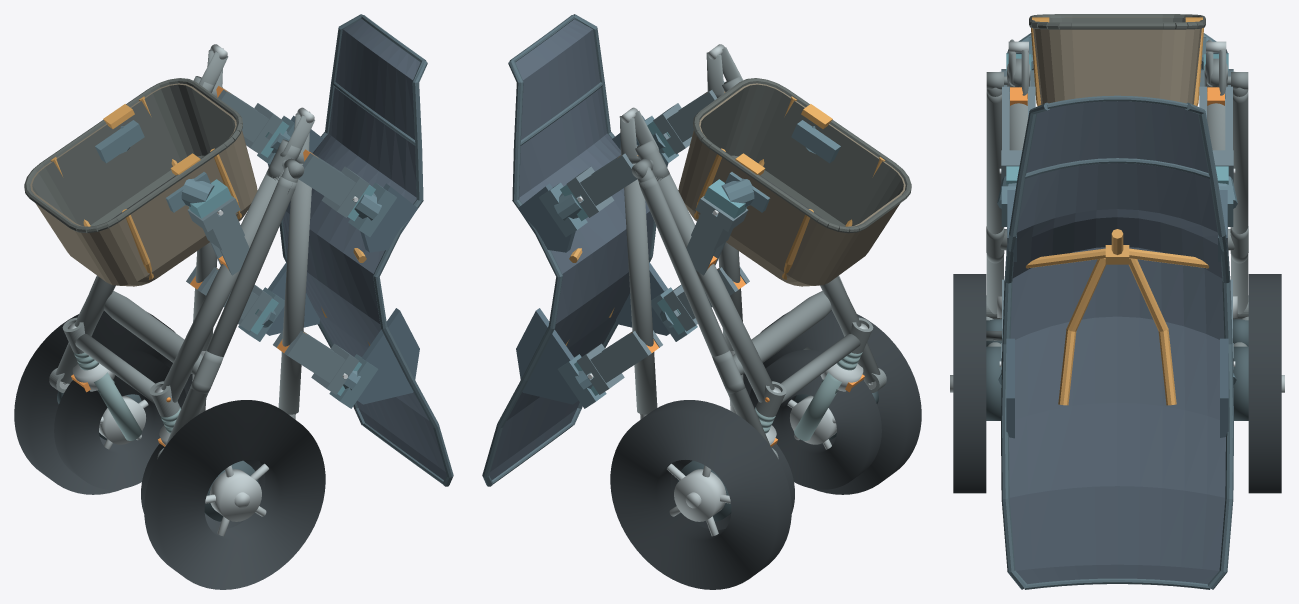
File: D34_w380_state3_wheel_M.glb
3 renders of one model, left to right at view 1: azimuth 30°, elevation 25°; view 2: azimuth 150°, elevation 25°; view 3: azimuth 270°, elevation 25°, orthographic. The views are drawn at different scales.
Visible parts, largest first — view 1: D34_Upper, D34_Lower, RL_tire.013, FR_tire.013, RR_tire.013, main_upper_-1.001, V46_rear_leg_-1, main_lower_-1.001, D34_Lower_Mount_L, Universal_Cabin_Receiver_H_-1, V46_rearbar, Universal_Cabin_Receiver_M_-1 (+16 smaller); view 2: D34_Upper, D34_Lower, RR_tire.013, FL_tire.013, RL_tire.013, main_upper_1.001, V46_rear_leg_1, main_lower_1.001, D34_Lower_Mount_L, Universal_Cabin_Receiver_H_1, V46_rearbar, Universal_Cabin_Receiver_M_1 (+18 smaller); view 3: D34_Upper, D34_Lower, RL_tire.013, RR_tire.013, V46_rear_leg_1, V46_rear_leg_-1, D34_Upper_MidMount, RL_brake_backplate.013, RR_brake_backplate.013, Universal_Cabin_Receiver_M_-1, Universal_Cabin_Receiver_M_1, main_upper_1.001 (+4 smaller).
Part boxes in pixels (<box>): D34_Upper: <box>266,14,453,486</box>; D34_Lower: <box>24,78,257,286</box>; RL_tire.013: <box>144,400,325,589</box>; FR_tire.013: <box>54,350,186,489</box>; RR_tire.013: <box>14,310,192,494</box>; main_upper_-1.001: <box>278,163,311,414</box>; V46_rear_leg_-1: <box>165,176,296,446</box>; main_lower_-1.001: <box>161,170,283,402</box>; D34_Lower_Mount_L: <box>95,120,232,218</box>; Universal_Cabin_Receiver_H_-1: <box>273,330,359,394</box>; V46_rearbar: <box>104,291,203,374</box>; Universal_Cabin_Receiver_M_-1: <box>298,152,369,217</box>; D34_Upper: <box>482,14,669,486</box>; D34_Lower: <box>678,78,911,286</box>; RR_tire.013: <box>610,400,791,589</box>; FL_tire.013: <box>749,350,881,489</box>; RL_tire.013: <box>743,310,921,494</box>; main_upper_1.001: <box>624,163,657,414</box>; V46_rear_leg_1: <box>639,176,770,446</box>; main_lower_1.001: <box>652,170,774,402</box>; D34_Lower_Mount_L: <box>703,120,840,218</box>; Universal_Cabin_Receiver_H_1: <box>576,330,662,394</box>; V46_rearbar: <box>732,291,831,374</box>; Universal_Cabin_Receiver_M_1: <box>566,145,637,217</box>; D34_Upper: <box>1001,95,1233,589</box>; D34_Lower: <box>1029,14,1205,106</box>; RL_tire.013: <box>953,274,986,493</box>; RR_tire.013: <box>1248,274,1281,493</box>; V46_rear_leg_1: <box>1231,91,1248,314</box>; V46_rear_leg_-1: <box>986,91,1003,314</box>; D34_Upper_MidMount: <box>997,166,1237,226</box>; RL_brake_backplate.013: <box>986,346,1001,420</box>; RR_brake_backplate.013: <box>1233,346,1248,420</box>; Universal_Cabin_Receiver_M_-1: <box>1001,86,1035,182</box>; Universal_Cabin_Receiver_M_1: <box>1199,86,1233,182</box>; main_upper_1.001: <box>1207,99,1227,244</box>.
Bounding box in the file's own units: 0.6444 × 0.7674 × 0.458.
